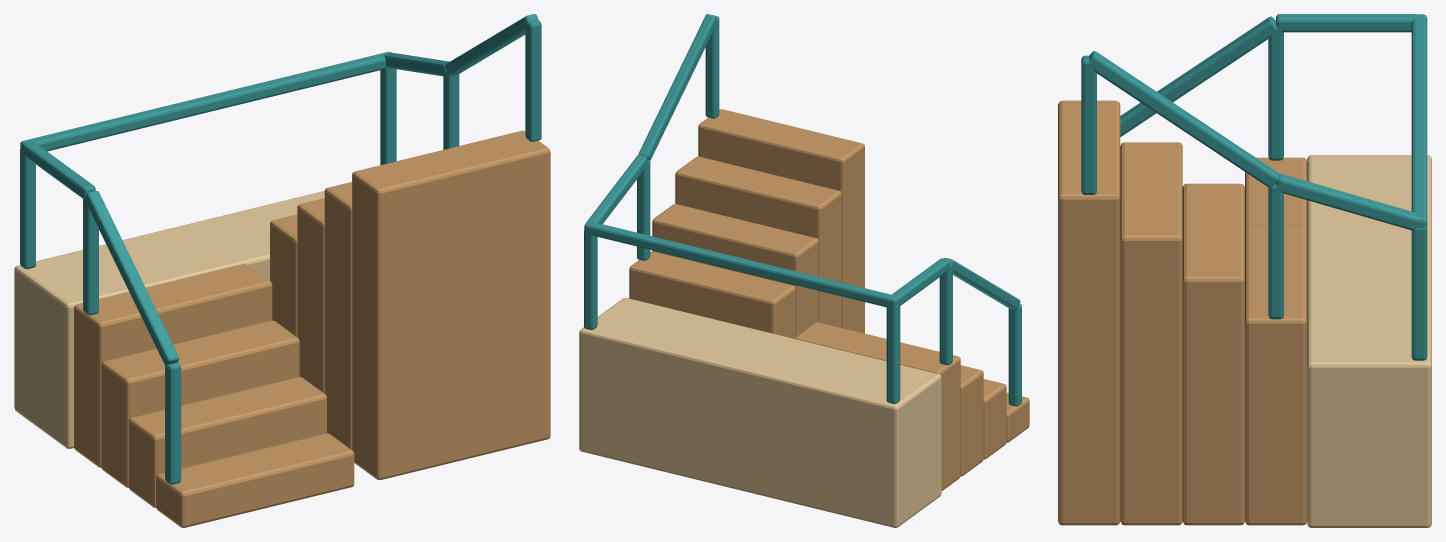
The model's file is S014_turning_stair.glb.
3 views of the same model, side by side, from view 1: azimuth 30°, elevation 25°; view 2: azimuth 150°, elevation 25°; view 3: azimuth 270°, elevation 25° (orthographic). The views are drawn at different scales.
Parts seen in each view (by area): view 1: upper_flight.003, landing, lower_flight.003, lower_flight.002, lower_flight.001, lower_flight, upper_flight.002, landing_back_rail, upper_flight.001, side_handrail, upper_flight, stair_rail_post (+8 smaller); view 2: landing, upper_flight.003, upper_flight.002, upper_flight, upper_flight.001, lower_flight.003, landing_back_rail, lower_flight.002, side_handrail.001, lower_flight.001, landing_corner_post, stair_rail_post (+8 smaller); view 3: landing, upper_flight.003, upper_flight.002, upper_flight.001, upper_flight, side_handrail.001, landing_back_rail, side_handrail, landing_side_rail.001, landing_side_rail, lower_flight.003, landing_corner_post.001 (+3 smaller).
Part boxes in pixels (x1,y1,x2,y2): upper_flight.003: (352, 130, 550, 479); landing: (14, 191, 324, 448); lower_flight.003: (74, 264, 272, 467); lower_flight.002: (101, 320, 299, 487); lower_flight.001: (128, 377, 326, 507); lower_flight: (156, 433, 354, 527); upper_flight.002: (324, 182, 351, 449); landing_back_rail: (20, 51, 391, 151); upper_flight.001: (297, 198, 324, 393); side_handrail: (85, 190, 179, 365); upper_flight: (270, 214, 297, 336); stair_rail_post: (165, 362, 181, 484); landing: (579, 298, 941, 527); upper_flight.003: (698, 109, 864, 333); upper_flight.002: (675, 156, 841, 327); upper_flight: (629, 251, 795, 338); upper_flight.001: (652, 204, 818, 335); lower_flight.003: (794, 322, 960, 490); landing_back_rail: (584, 222, 898, 307); lower_flight.002: (960, 365, 983, 476); side_handrail.001: (638, 14, 716, 160); lower_flight.001: (983, 379, 1006, 459); landing_corner_post: (886, 304, 900, 403); stair_rail_post: (1008, 304, 1021, 406); landing: (1307, 155, 1431, 527); upper_flight.003: (1058, 100, 1120, 525); upper_flight.002: (1120, 142, 1182, 525); upper_flight.001: (1182, 183, 1244, 525); upper_flight: (1245, 225, 1307, 525); side_handrail.001: (1089, 51, 1279, 187); landing_back_rail: (1411, 14, 1427, 228); side_handrail: (1120, 16, 1275, 136); landing_side_rail.001: (1276, 174, 1419, 230); landing_side_rail: (1276, 14, 1416, 32); lower_flight.003: (1245, 157, 1307, 228); landing_corner_post.001: (1411, 227, 1427, 360).
Bounding box in the file's own units: 2.4 × 2.5 × 1.8.
